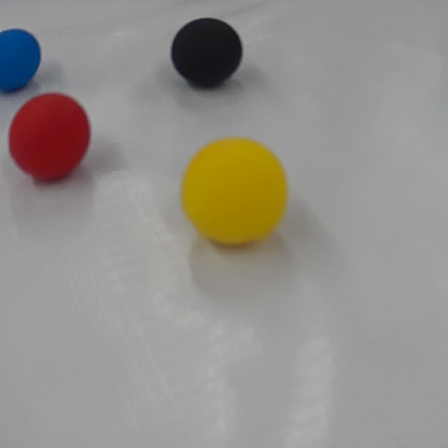black: (170, 12, 244, 90)
blue: (0, 27, 42, 97)
red: (8, 90, 95, 185)
yellow: (176, 136, 296, 252)
